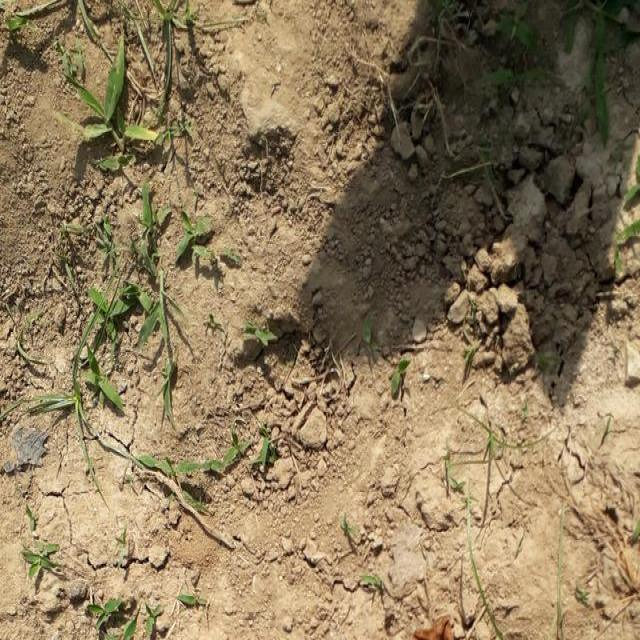weed: (66, 43, 190, 447)
